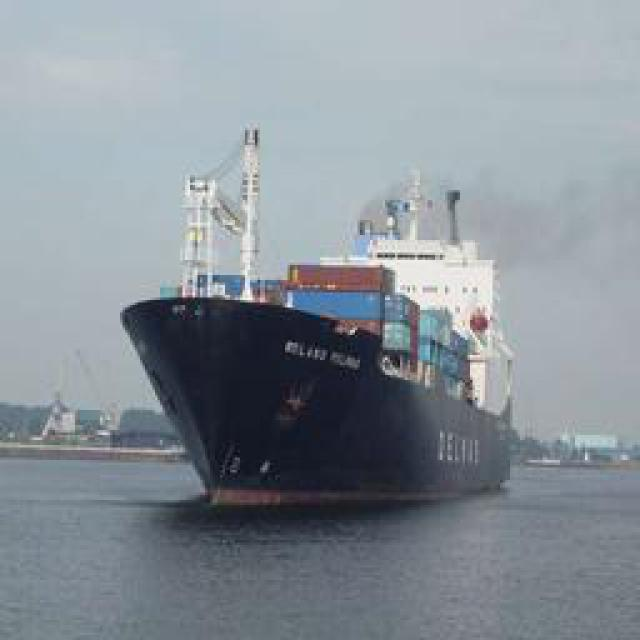Ship: (115, 257, 518, 510)
